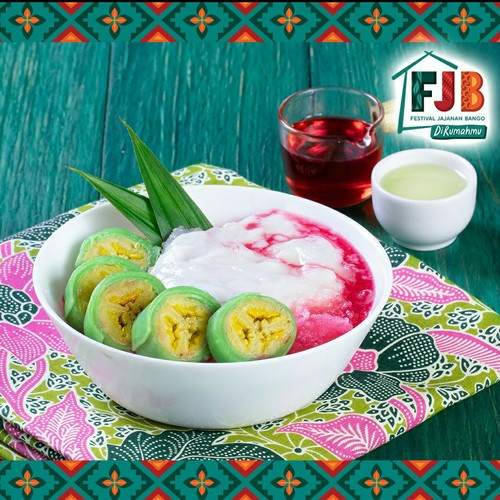pisang_ijo: (200, 281, 296, 369)
